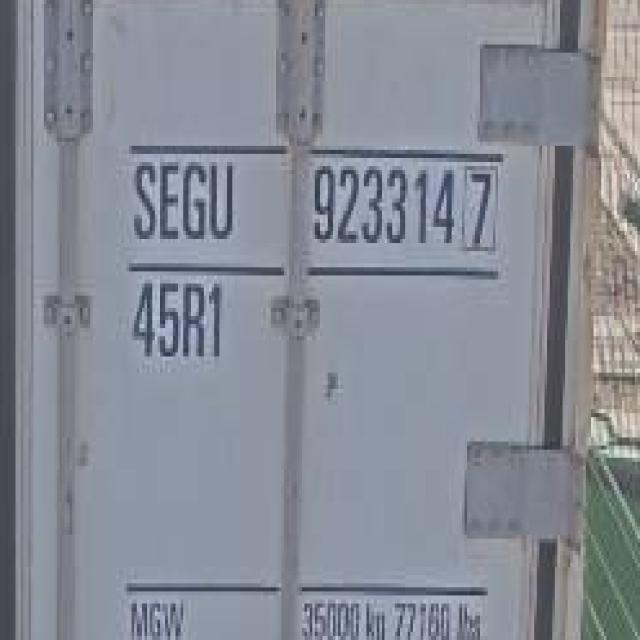dv: (461, 163, 502, 253)
owner: (128, 148, 243, 250)
serial: (307, 155, 459, 260)
size: (123, 275, 240, 369)
